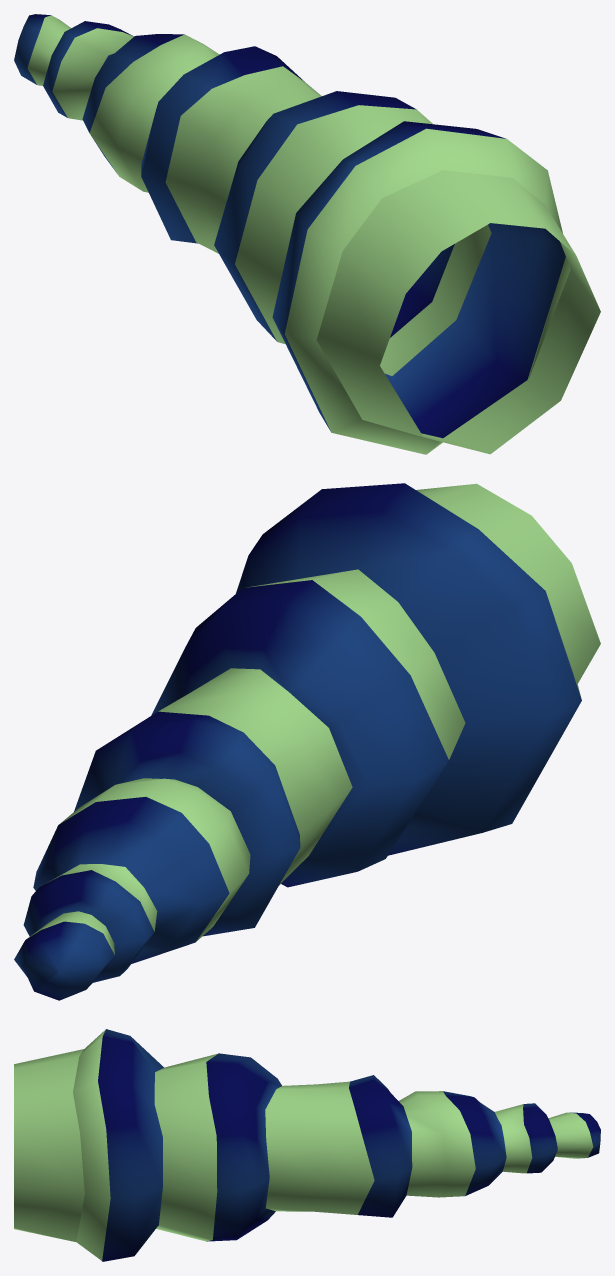
Rendered from RaveCaveTowerB1.fbx.
3 renders of one model, top to bottom at view 1: azimuth 30°, elevation 25°; view 2: azimuth 150°, elevation 25°; view 3: azimuth 270°, elevation 25°, orthographic. The views are drawn at different scales.
Visible parts, largest first — view 1: RaveCaveTowerB1; view 2: RaveCaveTowerB1; view 3: RaveCaveTowerB1.
Boxes of the visible parts, bbox=[...] form: RaveCaveTowerB1: bbox=[14, 14, 600, 454]; RaveCaveTowerB1: bbox=[14, 483, 600, 1000]; RaveCaveTowerB1: bbox=[14, 1029, 600, 1261].
Size of the model in its own units: 426 by 448 by 1056.
